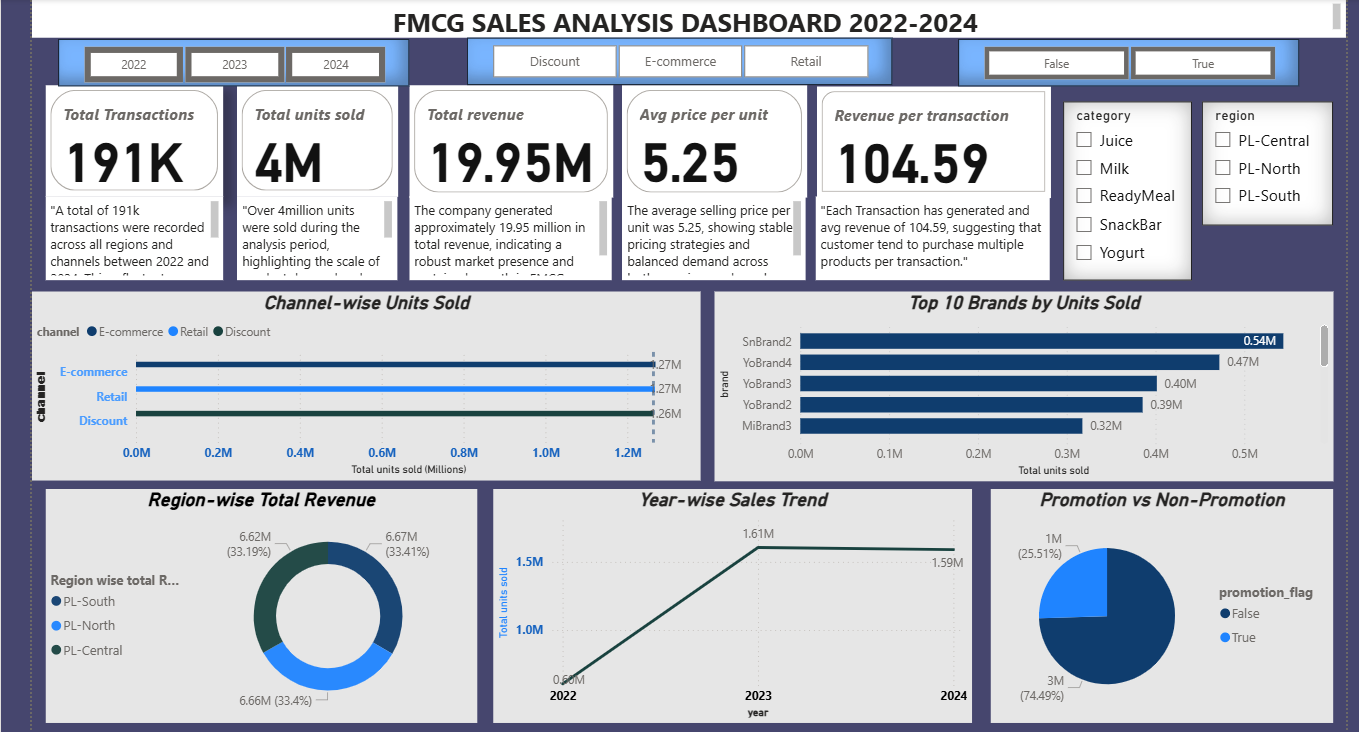

The dashboard page shown, as its layout file describes it:
{"tool":"powerbi","page":{"name":"Page 1","canvas":[1356,760],"ordinal":0},"visuals":[{"type":"textbox","box":[0,0,1356.6,40],"z":0},{"type":"cardVisual","fields":{"Data":["fmcg_sales_db fmcg_sales_final.Total Transactions"]},"box":[14.2,89.1,183.3,114.9],"z":1000},{"type":"cardVisual","fields":{"Data":["fmcg_sales_db fmcg_sales_final.Total units sold"]},"box":[211.7,89.1,166.5,114.9],"z":2000},{"type":"cardVisual","fields":{"Data":["fmcg_sales_db fmcg_sales_final.total revenue"]},"box":[389.8,89.1,210.4,116.2],"z":3000},{"type":"cardVisual","fields":{"Data":["fmcg_sales_db fmcg_sales_final.avg price per unit"]},"box":[609.2,89.1,191,116.2],"z":4000},{"type":"cardVisual","fields":{"Data":["fmcg_sales_db fmcg_sales_final.revenue per transaction"]},"box":[810.6,90.4,241.4,114.9],"z":5000},{"type":"textbox","box":[14.2,203.9,183.3,86.5],"z":6000},{"type":"textbox","box":[211.7,203.9,165.2,86.5],"z":7000},{"type":"textbox","box":[389.8,203.9,209.1,86.5],"z":8000},{"type":"textbox","box":[609.2,203.9,189.7,86.5],"z":9000},{"type":"textbox","box":[809.3,203.9,241.4,86.5],"z":10000},{"type":"clusteredBarChart","title":"Channel-wise Units Sold","fields":{"Y":["fmcg_sales_db fmcg_sales_final.Total units sold"],"Series":["fmcg_sales_db fmcg_sales_final.channel"],"Category":["fmcg_sales_db fmcg_sales_final.channel"]},"box":[0,312.4,690.6,194.9],"z":11000},{"type":"donutChart","title":"Region-wise Total Revenue","fields":{"Category":["fmcg_sales_db fmcg_sales_final.region"],"Y":["fmcg_sales_db fmcg_sales_final.Total revenue"]},"box":[14.2,518.9,445.3,241.4],"z":12000},{"type":"pieChart","title":"Promotion vs Non-Promotion","fields":{"Category":["fmcg_sales_db fmcg_sales_final.promotion_flag"],"Y":["fmcg_sales_db fmcg_sales_final.Total units sold"]},"box":[990,518.9,353.7,241.4],"z":13000},{"type":"lineChart","title":"Year-wise Sales Trend","fields":{"Category":["fmcg_sales_db fmcg_sales_final.year"],"Y":["fmcg_sales_db fmcg_sales_final.Total units sold"]},"box":[478.9,518.9,494.4,241.4],"z":14000},{"type":"barChart","title":"Top 10 Brands by Units Sold","fields":{"Y":["fmcg_sales_db fmcg_sales_final.Total units sold"],"Category":["fmcg_sales_db fmcg_sales_final.brand"]},"box":[704.8,311.1,638.9,196.2],"z":15000},{"type":"slicer","fields":{"Values":["fmcg_sales_db fmcg_sales_final.year"]},"box":[27.1,41.3,362.7,49],"z":16000},{"type":"slicer","fields":{"Values":["fmcg_sales_db fmcg_sales_final.region"]},"box":[1208.2,105.8,135.5,127.8],"z":16001},{"type":"slicer","fields":{"Values":["fmcg_sales_db fmcg_sales_final.channel"]},"box":[449.2,40,438.9,49],"z":16002},{"type":"slicer","fields":{"Values":["fmcg_sales_db fmcg_sales_final.promotion_flag"]},"box":[956.5,41.3,352.4,49],"z":16003},{"type":"slicer","fields":{"Values":["fmcg_sales_db fmcg_sales_final.category"]},"box":[1064.9,105.8,132.9,184.6],"z":16004}]}

Visuals, with their boxes in screenshot pixels (x1, y1, x2, y2):
textbox: rect(42, 0, 1332, 34)
cardVisual - fmcg_sales_db fmcg_sales_final.Total Transactions: rect(56, 81, 230, 190)
cardVisual - fmcg_sales_db fmcg_sales_final.Total units sold: rect(244, 81, 402, 190)
cardVisual - fmcg_sales_db fmcg_sales_final.total revenue: rect(413, 81, 613, 192)
cardVisual - fmcg_sales_db fmcg_sales_final.avg price per unit: rect(622, 81, 803, 192)
cardVisual - fmcg_sales_db fmcg_sales_final.revenue per transaction: rect(813, 82, 1043, 192)
textbox: rect(56, 190, 230, 273)
textbox: rect(244, 190, 401, 273)
textbox: rect(413, 190, 612, 273)
textbox: rect(622, 190, 802, 273)
textbox: rect(812, 190, 1041, 273)
"Channel-wise Units Sold" clusteredBarChart: rect(42, 293, 699, 479)
"Region-wise Total Revenue" donutChart: rect(56, 490, 479, 719)
"Promotion vs Non-Promotion" pieChart: rect(984, 490, 1320, 719)
"Year-wise Sales Trend" lineChart: rect(498, 490, 968, 719)
"Top 10 Brands by Units Sold" barChart: rect(712, 292, 1320, 479)
slicer - fmcg_sales_db fmcg_sales_final.year: rect(68, 36, 413, 82)
slicer - fmcg_sales_db fmcg_sales_final.region: rect(1191, 97, 1320, 219)
slicer - fmcg_sales_db fmcg_sales_final.channel: rect(469, 34, 887, 81)
slicer - fmcg_sales_db fmcg_sales_final.promotion_flag: rect(952, 36, 1287, 82)
slicer - fmcg_sales_db fmcg_sales_final.category: rect(1055, 97, 1181, 273)
